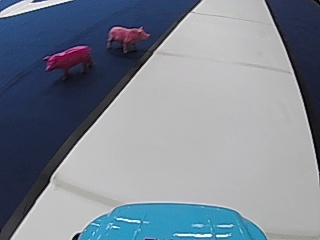pig: (42, 42, 94, 82), (103, 21, 150, 53)
